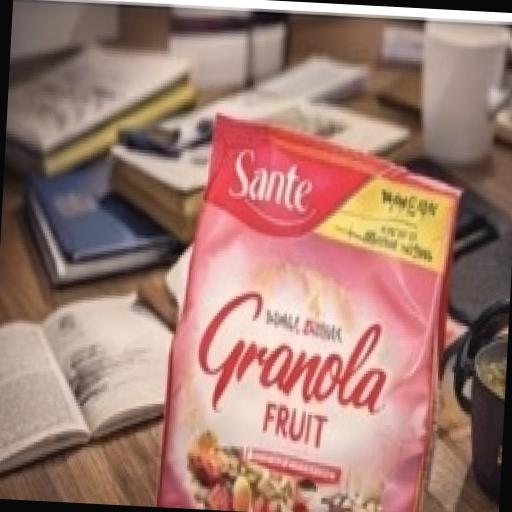granola: (147, 89, 474, 512)
